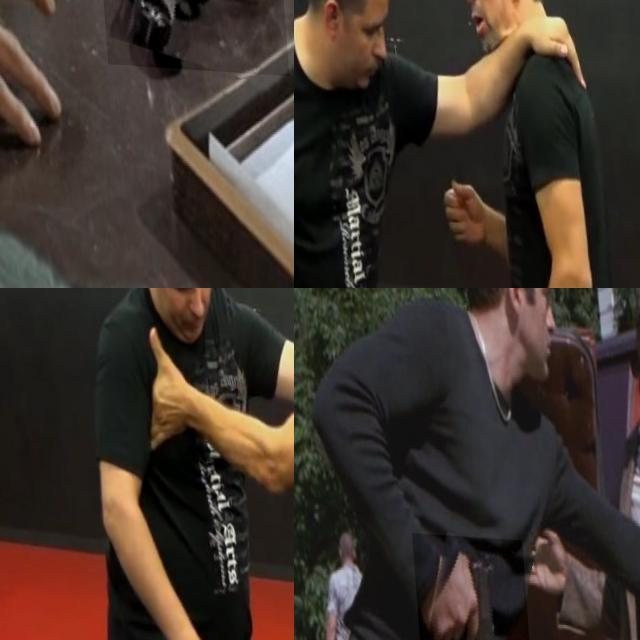gun-knife-thesis - v11 Yolov5 augmented: (91, 0, 283, 100), (405, 530, 526, 640)
